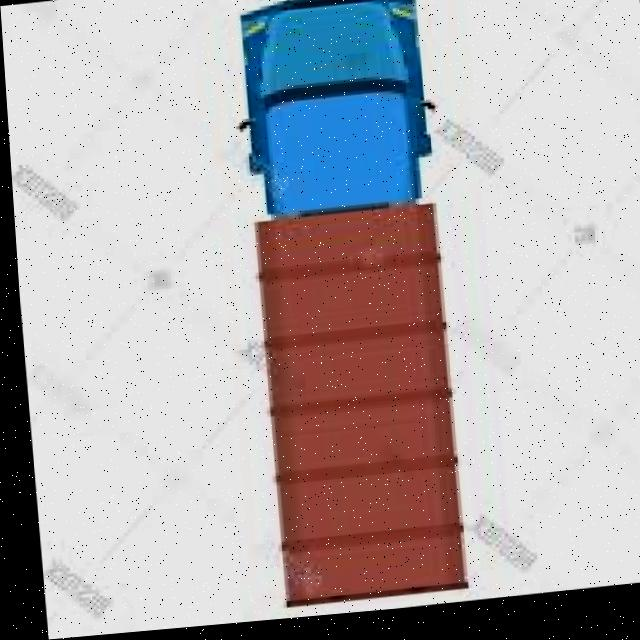truck: (225, 0, 462, 615)
